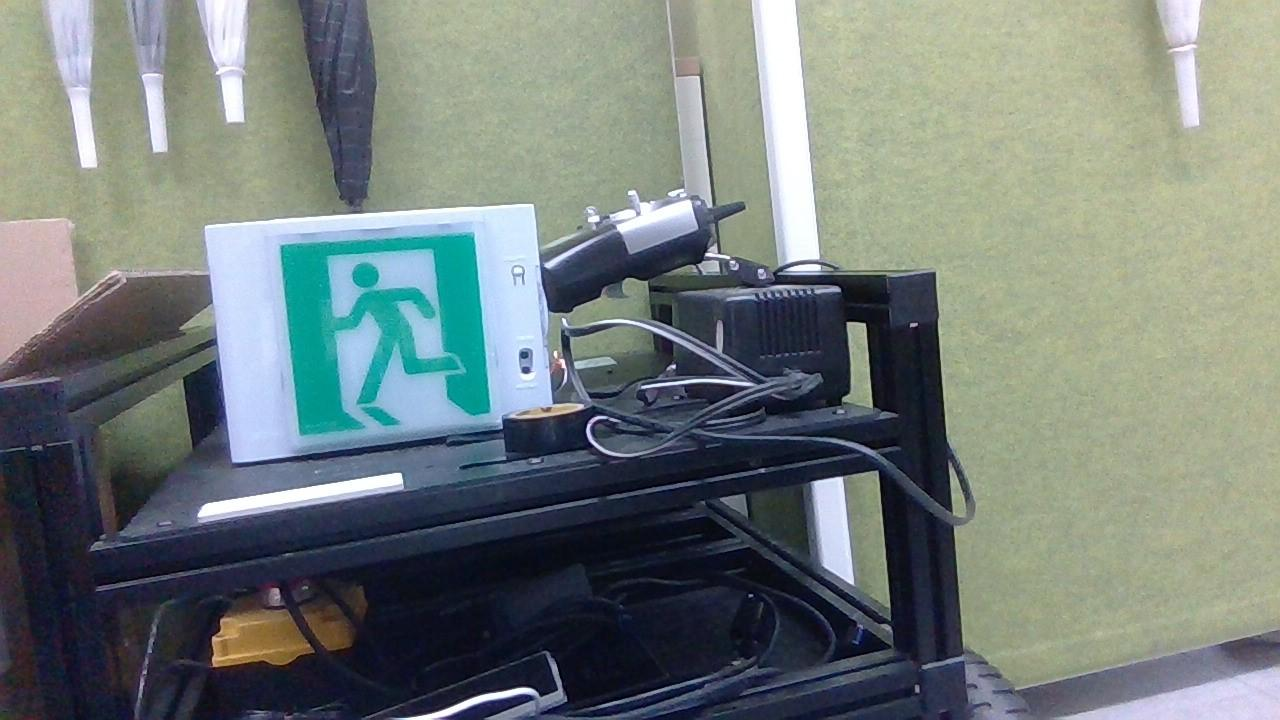emergency_exit: (203, 202, 555, 466)
